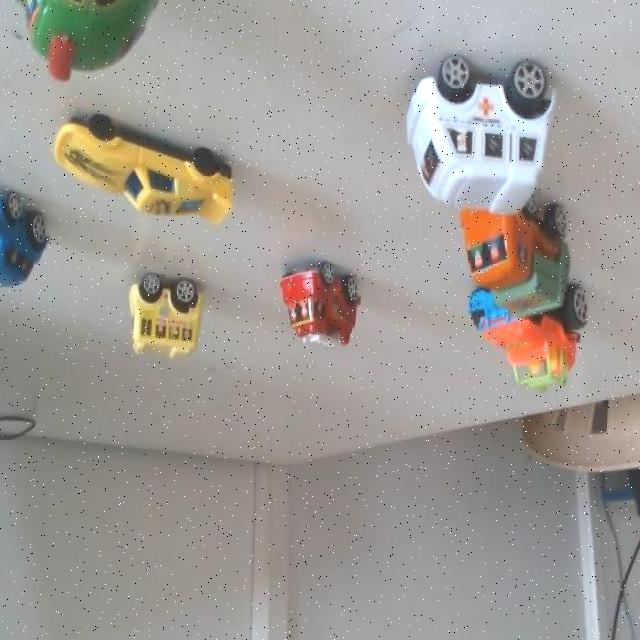car: (374, 28, 543, 238), (68, 102, 215, 236), (457, 278, 552, 399), (277, 242, 363, 364), (465, 192, 541, 326), (118, 258, 209, 363), (1, 0, 129, 60), (0, 185, 26, 290)
